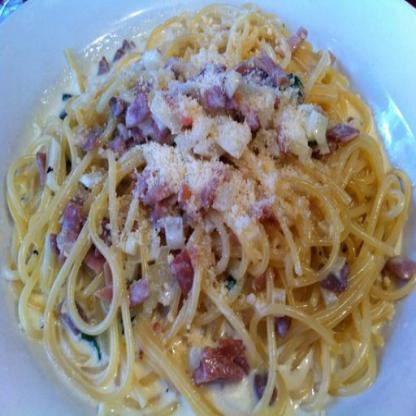pasta: (19, 21, 381, 404)
